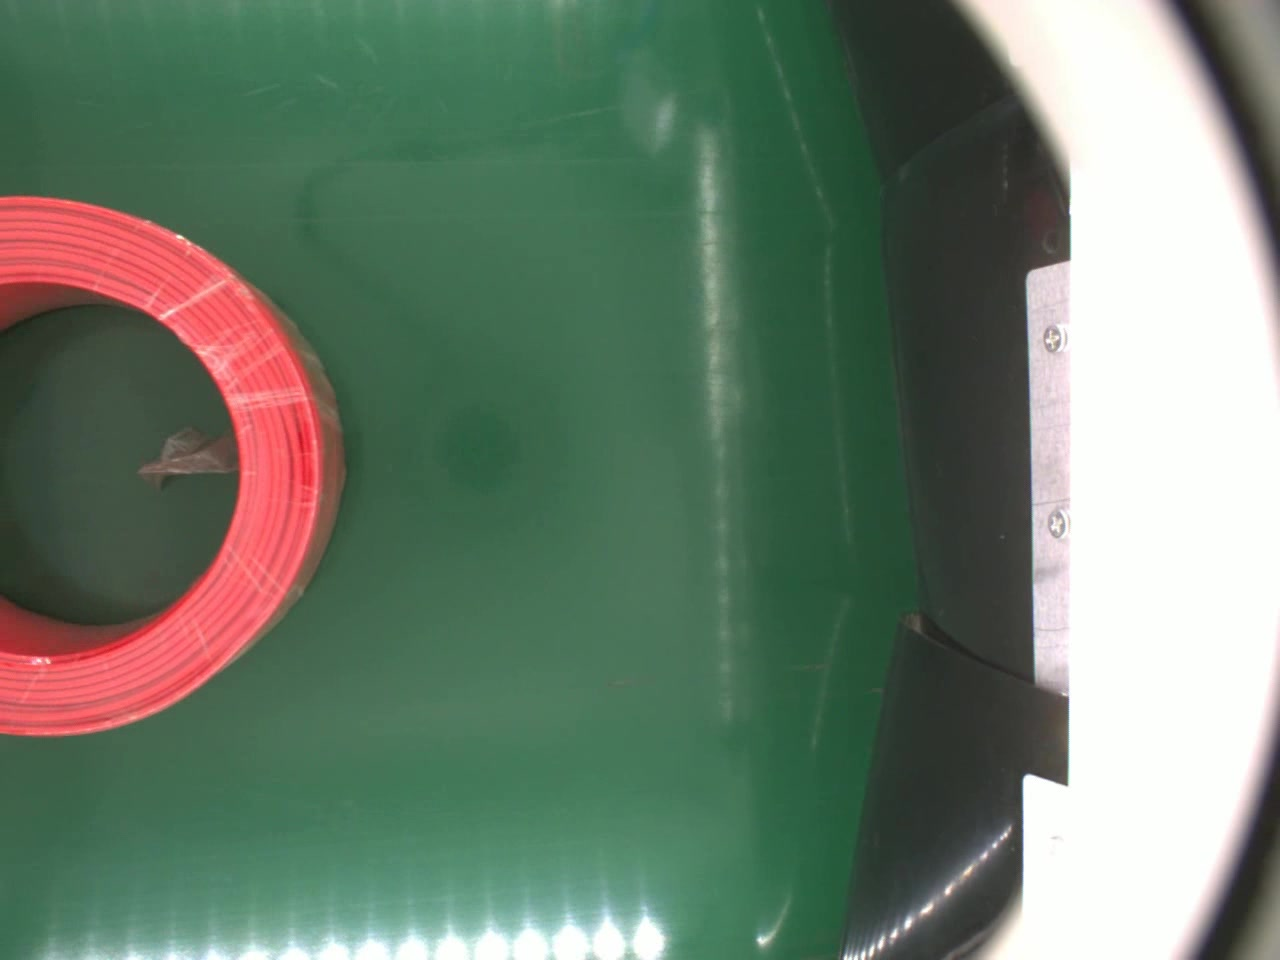red: (0, 192, 348, 740)
